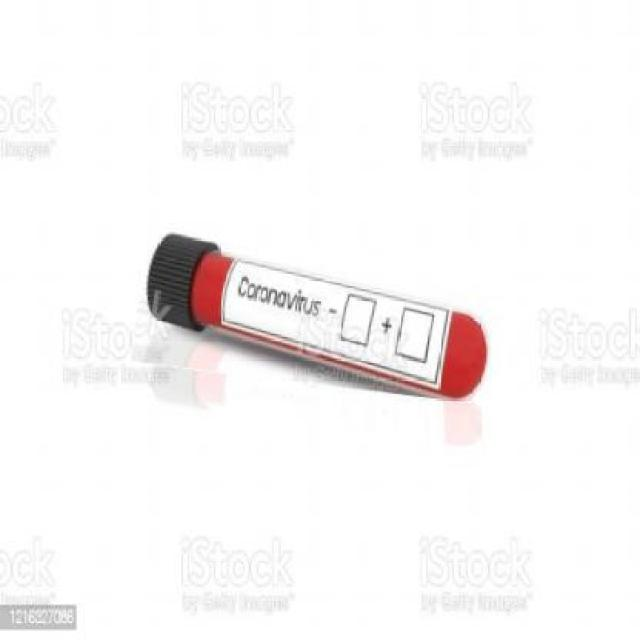Experimental-tube: (136, 236, 502, 396)
